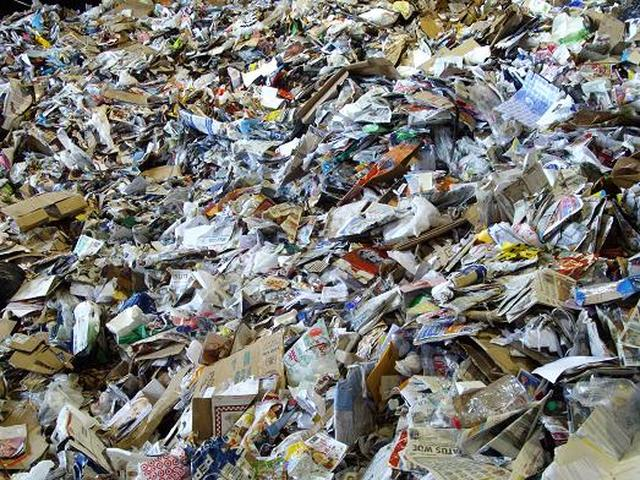garbage: (35, 33, 613, 453)
